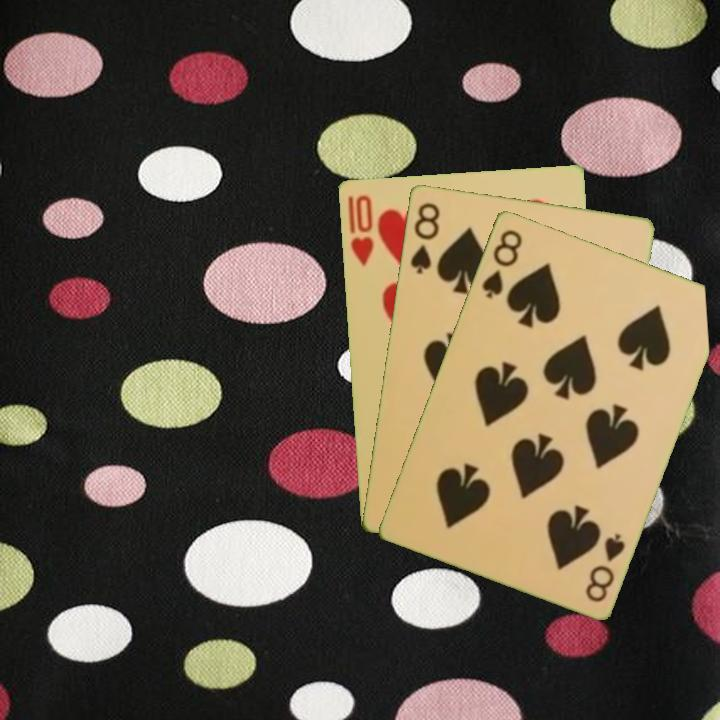10h: (344, 191, 376, 268)
8s: (478, 225, 525, 301), (581, 529, 628, 605), (406, 198, 442, 276)
